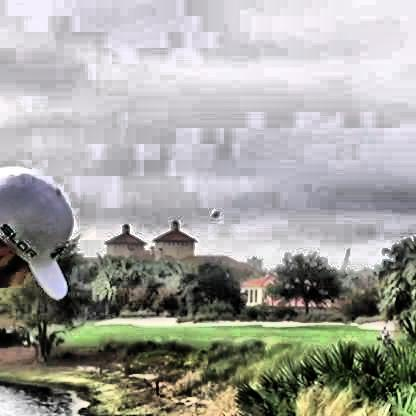golfball: (207, 207, 219, 217)
